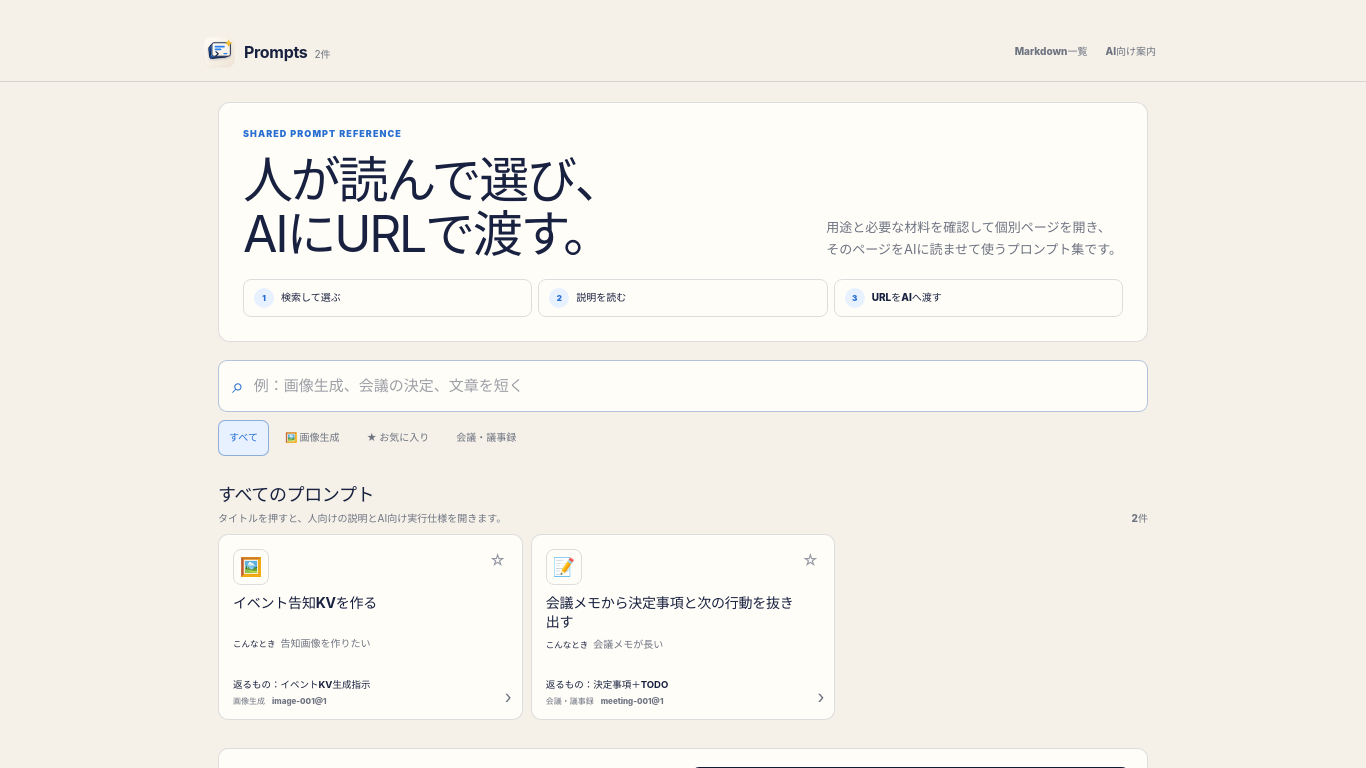
Test: ReferenceLibraryApp › 画像生成カテゴリだけを表示できる
This screenshot has width=1366, height=768.
Expected: the text "会議メモから決定事項と次の行動を抜き出す" is shown, [546, 592, 796, 632]
Click the button "🖼️ 画像生成" at (312, 438), box [274, 420, 351, 456]
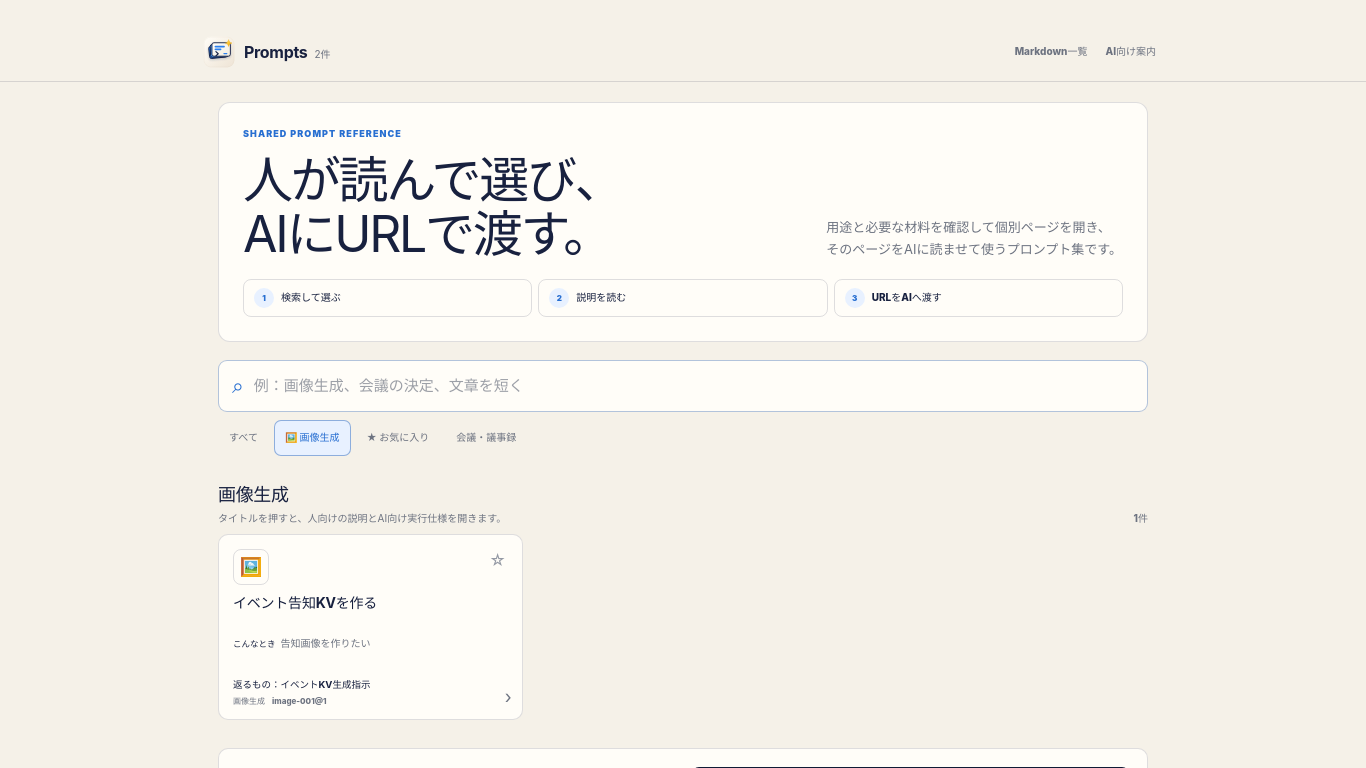
Expected: the text "イベント告知KVを作る" is shown, [233, 594, 377, 610]
Expected: the link "会議メモから決定事項と次の行動を抜き出す" is gone
